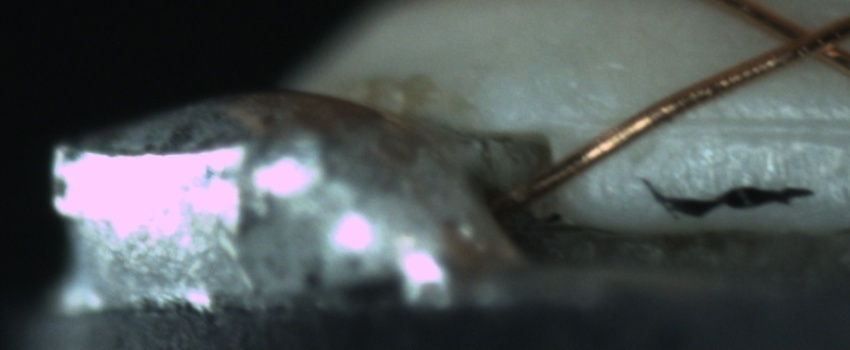CL: (762, 7, 847, 69)
DL: (651, 93, 844, 157)
